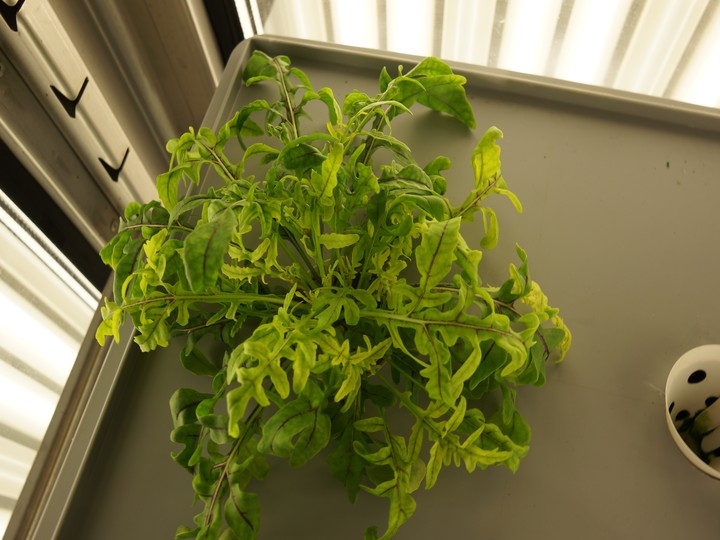roquette_sauvage_red_veined: (82, 40, 606, 540)
